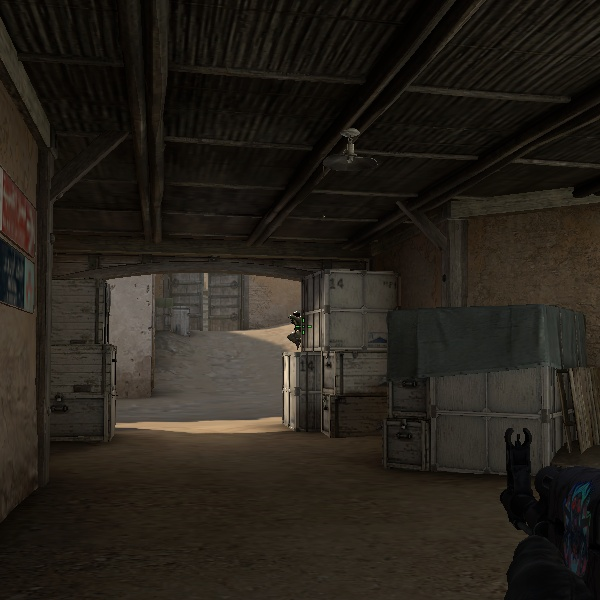ct_body: (287, 310, 305, 346)
ct_head: (293, 310, 301, 320)
